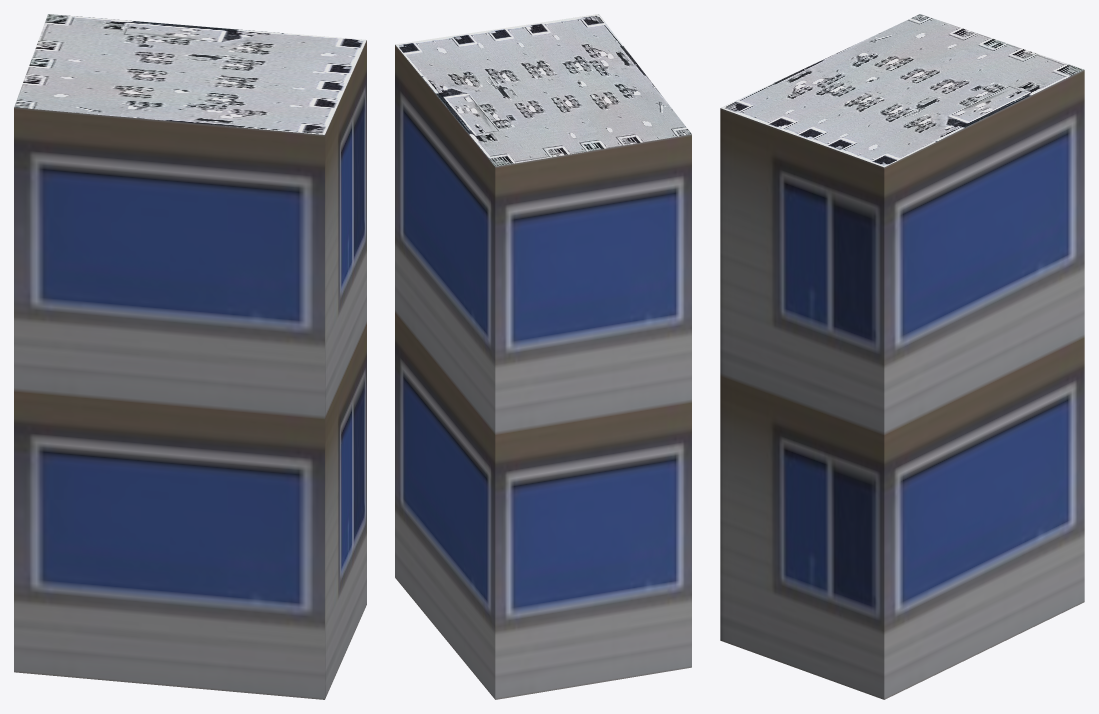
The model's file is ResTex__1622.fbx.
3 views of the same model, side by side, from view 1: azimuth 30°, elevation 25°; view 2: azimuth 150°, elevation 25°; view 3: azimuth 270°, elevation 25° (orthographic). The views are drawn at different scales.
Parts seen in each view (by area): view 1: CityEngineMaterial_23_m, CityEngineMaterial_4_m; view 2: CityEngineMaterial_23_m, CityEngineMaterial_4_m; view 3: CityEngineMaterial_23_m, CityEngineMaterial_4_m.
Part boxes in pixels (box(x1,y1,x2,y2)): CityEngineMaterial_23_m: box(14, 40, 366, 699); CityEngineMaterial_4_m: box(14, 14, 366, 134); CityEngineMaterial_23_m: box(395, 45, 691, 699); CityEngineMaterial_4_m: box(395, 14, 691, 166); CityEngineMaterial_23_m: box(720, 70, 1084, 699); CityEngineMaterial_4_m: box(720, 14, 1083, 167).
Size of the model in its own units: 3.71 by 6 by 3.72.
Materials: 2 (2 with a texture image).
